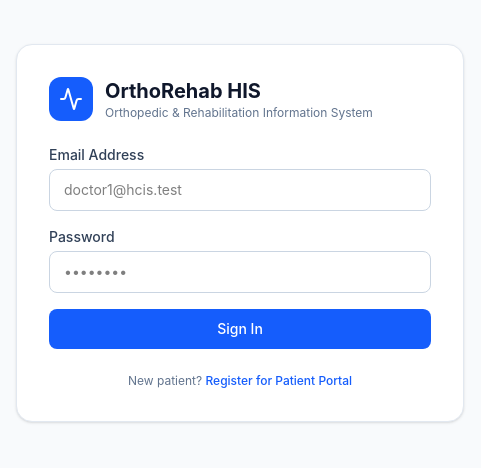
Scenario: Authentication & RBAC flows › displays structured error alert when login fails
Type "wrong@demo.ortho.local" into the field labelled "Email Address".
click(240, 190); type("wrong@demo.ortho.local")  # box top-left (49, 169), bottom-right (431, 211)
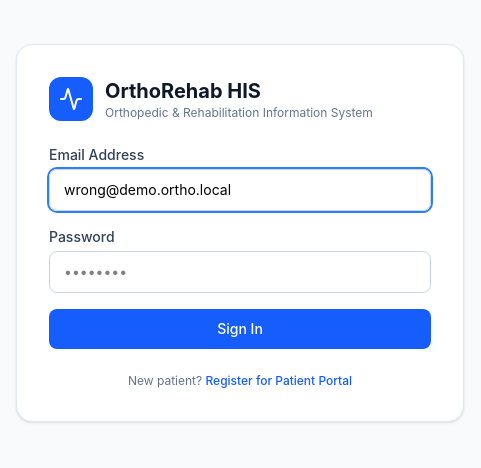
Type "WrongPass123" into the password field labelled "Password".
click(240, 272); type("WrongPass123")  # box top-left (49, 251), bottom-right (431, 293)
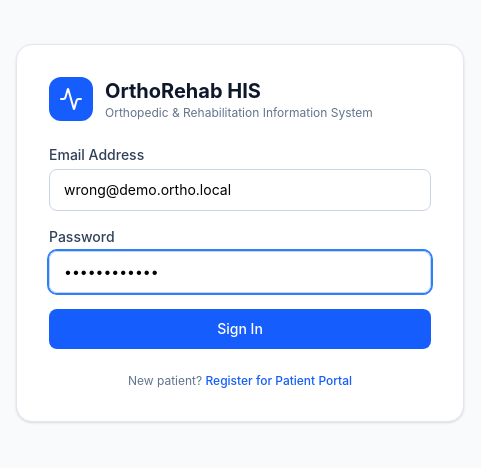
Click the button "Sign In".
click(240, 329)  # box top-left (49, 309), bottom-right (431, 349)
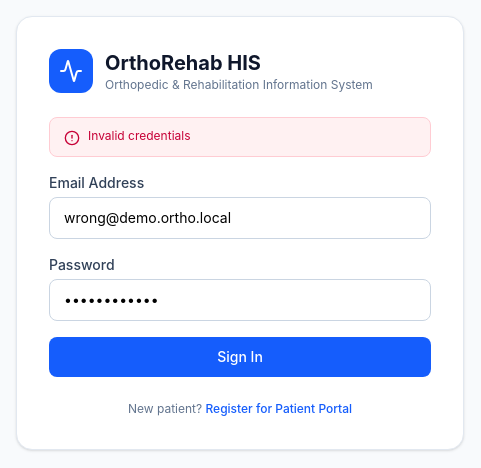
Result: the message reads "Invalid credentials" at top-left (88, 128), bottom-right (190, 143)
